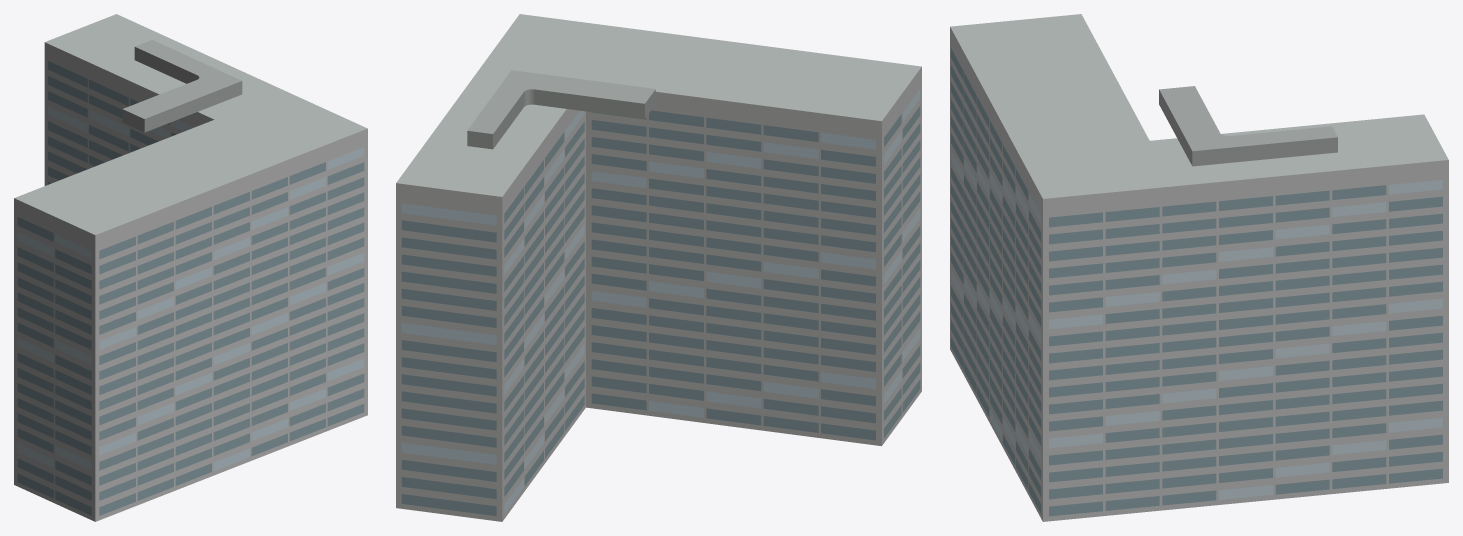
Rendered from apt-a13905101.glb.
3 renders of one model, left to right at view 1: azimuth 30°, elevation 25°; view 2: azimuth 150°, elevation 25°; view 3: azimuth 270°, elevation 25°, orthographic. The views are drawn at different scales.
Parts seen in each view (by area): view 1: apt-a13905101; view 2: apt-a13905101; view 3: apt-a13905101.
Part boxes in pixels (left/top/right/bottom): apt-a13905101: left=14, top=14, right=367, bottom=521; apt-a13905101: left=396, top=14, right=921, bottom=521; apt-a13905101: left=950, top=14, right=1448, bottom=521.
Bounding box in the file's own units: 61.01 × 52 × 69.5.
